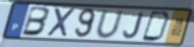9: (74, 7, 97, 40)
B: (20, 6, 52, 38)
D: (140, 10, 172, 43)
J: (123, 11, 145, 40)
U: (95, 9, 125, 40)
X: (45, 7, 77, 39)
